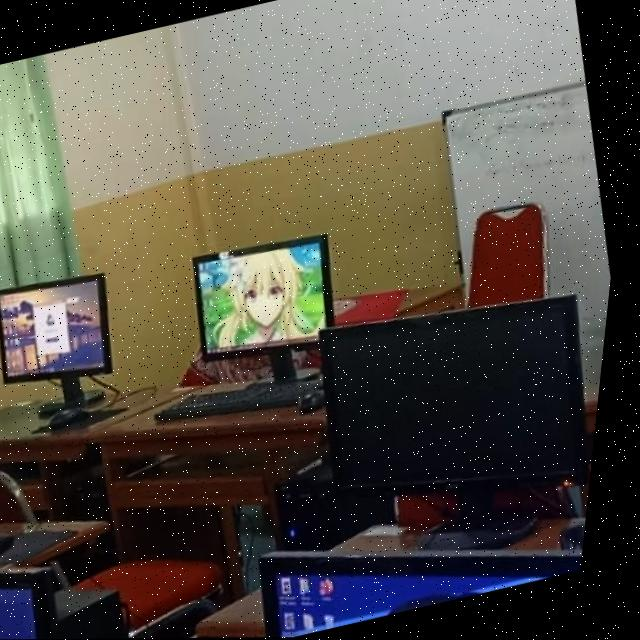offscreen: (327, 296, 596, 488)
onscreen: (198, 235, 341, 358), (2, 275, 120, 383)
